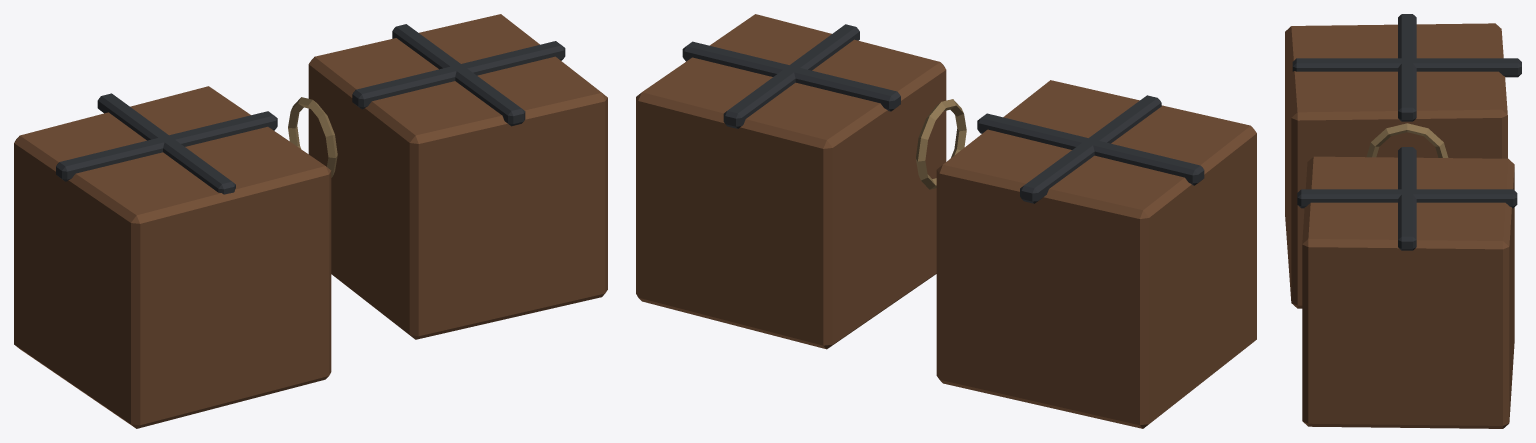
The model's file is raft2.glb.
The picture shows the model from 3 angles, left to right: view 1: azimuth 30°, elevation 25°; view 2: azimuth 150°, elevation 25°; view 3: azimuth 270°, elevation 25°; orthographic projection. The views are drawn at different scales.
Visible parts, largest first — view 1: Raft; view 2: Raft; view 3: Raft.
Boxes of the visible parts, x1,y1,x2,y2 form: Raft: (14,14,607,428); Raft: (636,14,1256,428); Raft: (1285,14,1521,428).
Size of the model in its own units: 1.72 by 0.7349 by 0.7636.
